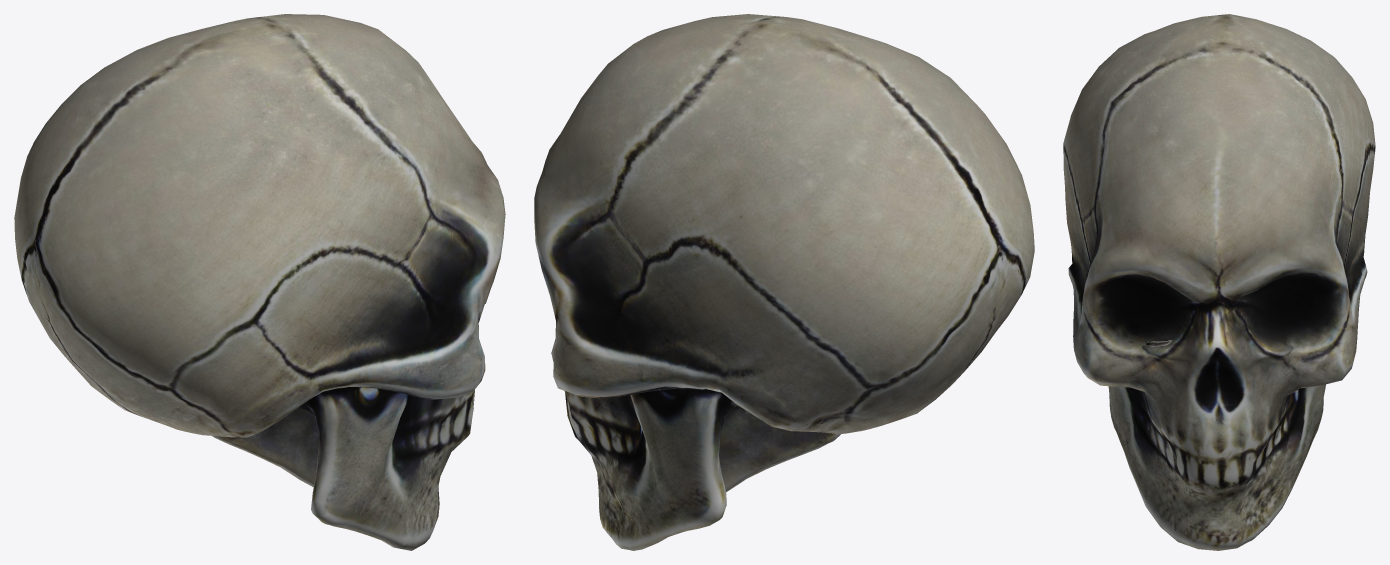
Rendered from 0eea03289752_skull_min.fbx.
3 views of the same model, side by side, from view 1: azimuth 30°, elevation 25°; view 2: azimuth 150°, elevation 25°; view 3: azimuth 270°, elevation 25° (orthographic). The views are drawn at different scales.
Parts seen in each view (by area): view 1: mesh; view 2: mesh; view 3: mesh.
Boxes of the visible parts, x1,y1,x2,y2 form: mesh: (14,14,505,550); mesh: (534,14,1034,550); mesh: (1063,14,1375,550).
Size of the model in its own units: 87.25 by 99.75 by 62.23.
